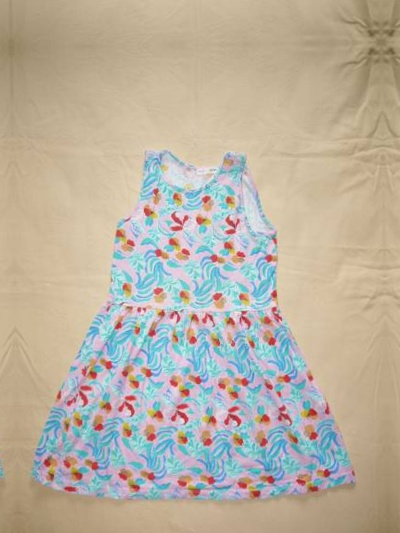Dress: (32, 142, 369, 506)
